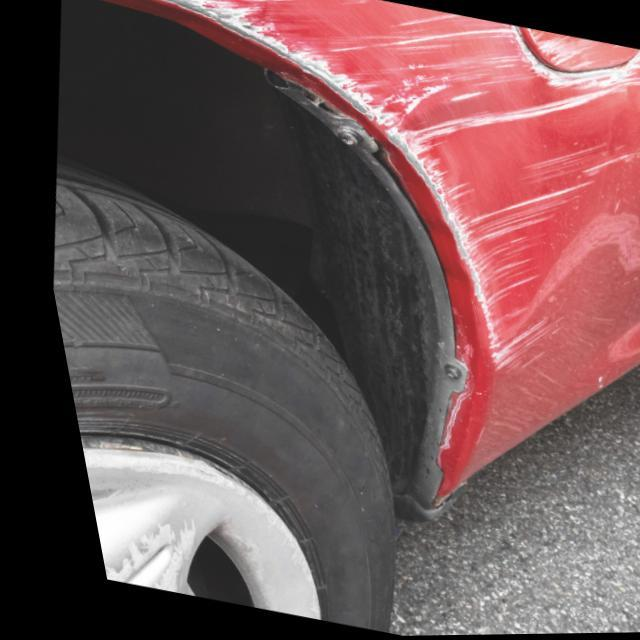scratch: (163, 0, 640, 388)
